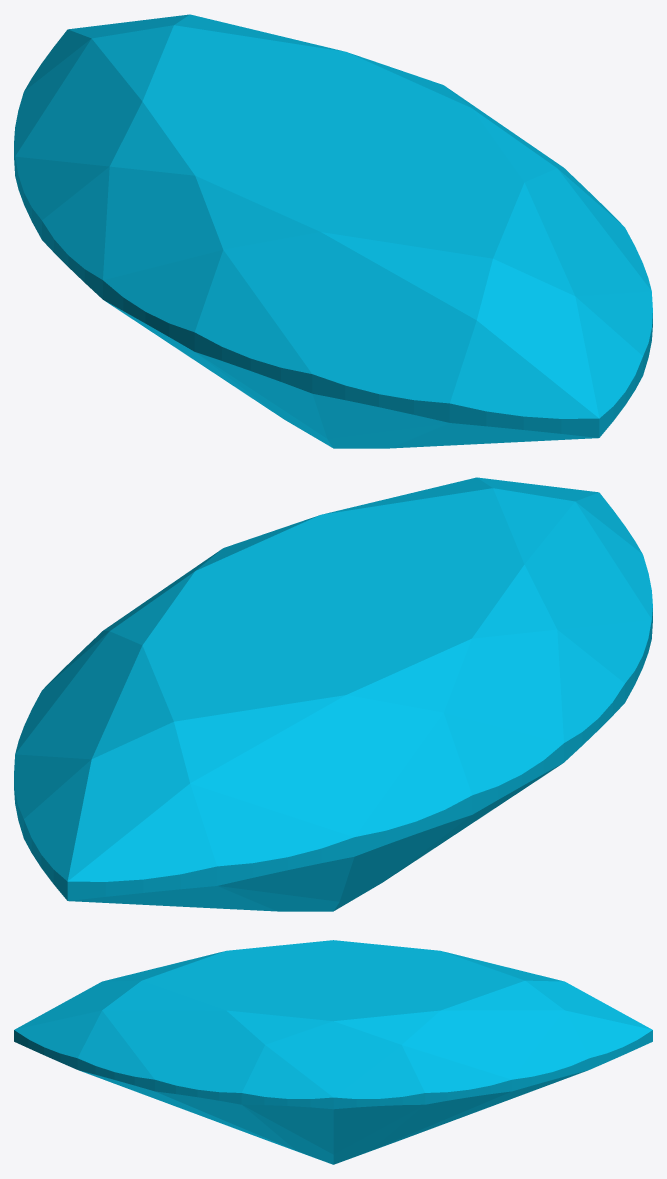
Rendered from Head_Hidden Halo_Marquise_2.0ct_Diamond.glb.
The picture shows the model from 3 angles, top to bottom: view 1: azimuth 30°, elevation 25°; view 2: azimuth 150°, elevation 25°; view 3: azimuth 270°, elevation 25°; orthographic projection. The views are drawn at different scales.
Size of the model in its own units: 0.00648 by 0.00412 by 0.0129.
